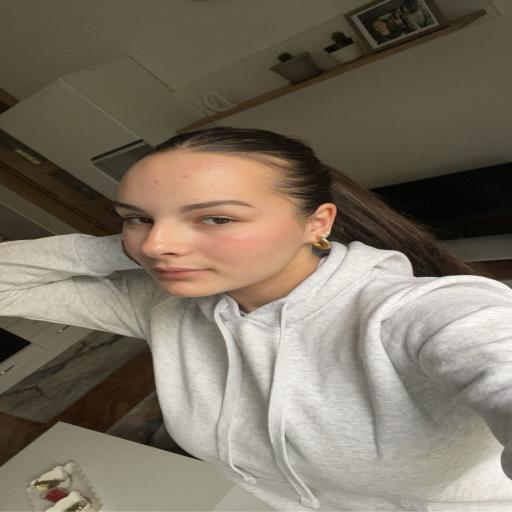marija: (112, 153, 316, 303)
